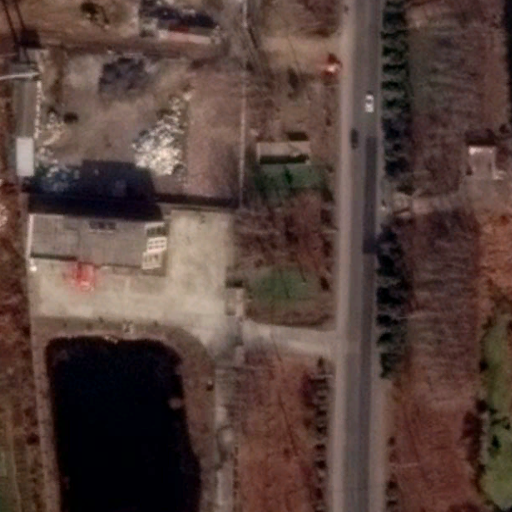msw: (133, 91, 188, 175)
